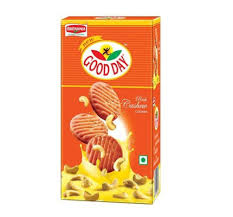gooday-large: (58, 15, 160, 197)
